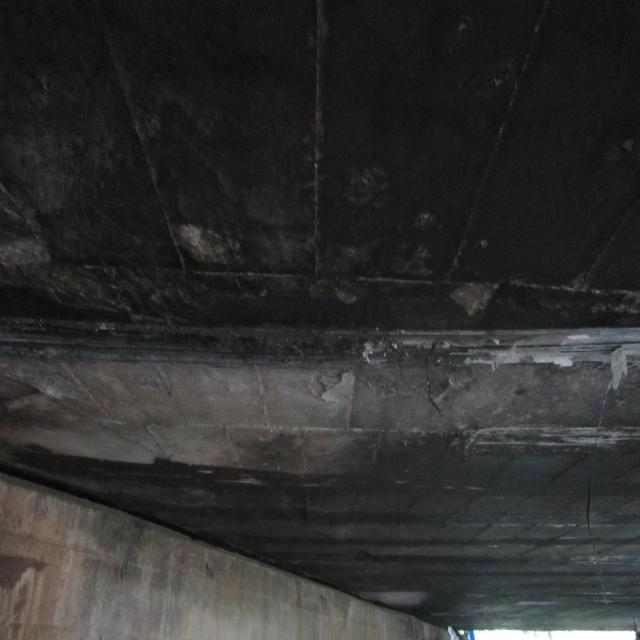concrete spalling: (448, 279, 504, 319)
